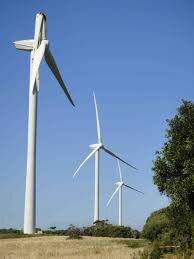faulty: (11, 10, 71, 120)
